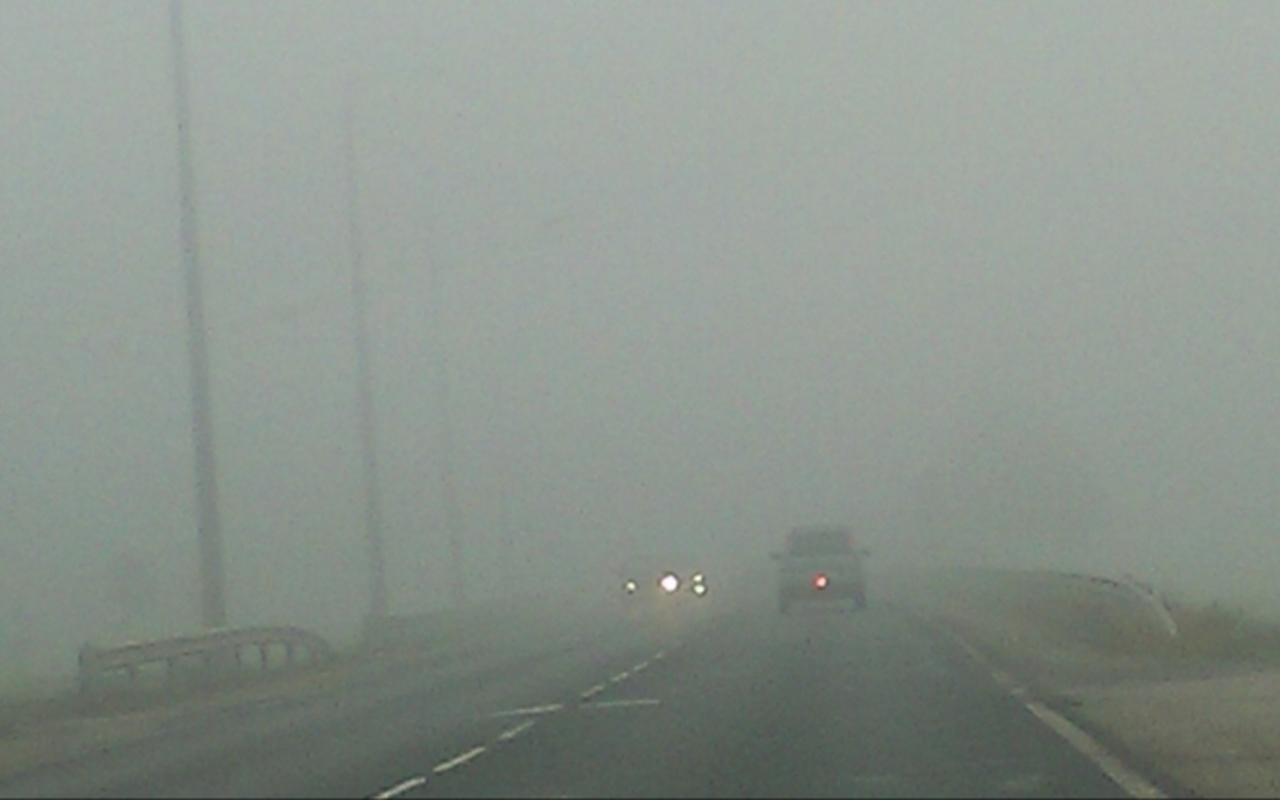car: (768, 526, 875, 617), (669, 550, 717, 608), (617, 558, 675, 605)
